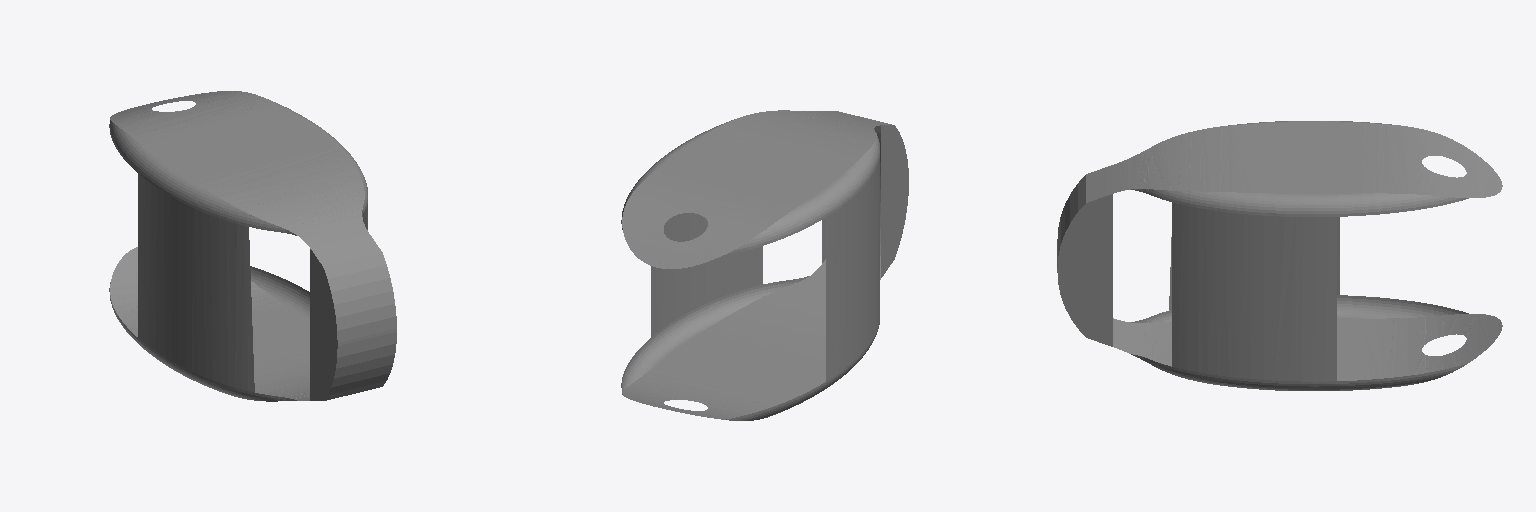
File: test_caudier.obj
The picture shows the model from 3 angles: view 1: azimuth 30°, elevation 25°; view 2: azimuth 150°, elevation 25°; view 3: azimuth 270°, elevation 25°; orthographic projection.
Visible parts, largest first — view 1: default; view 2: default; view 3: default.
Part boxes in pixels (x1,y1,x2,y2): default: (109, 91, 396, 401); default: (621, 110, 908, 420); default: (1057, 121, 1502, 390).
Size of the model in its own units: 0.2362 by 0.248 by 0.5118.